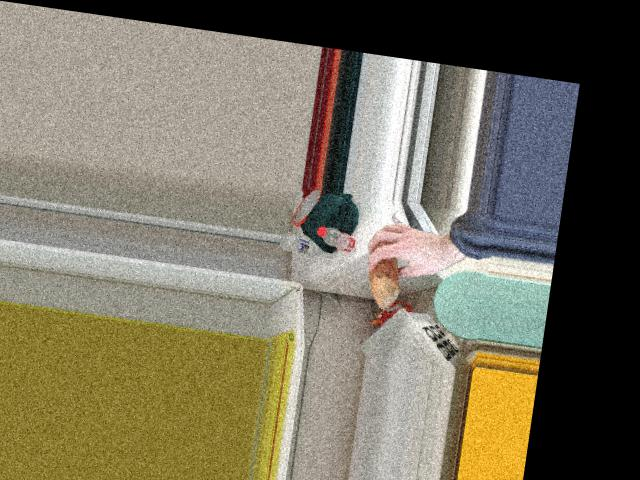sweet_potato: (369, 247, 398, 297)
